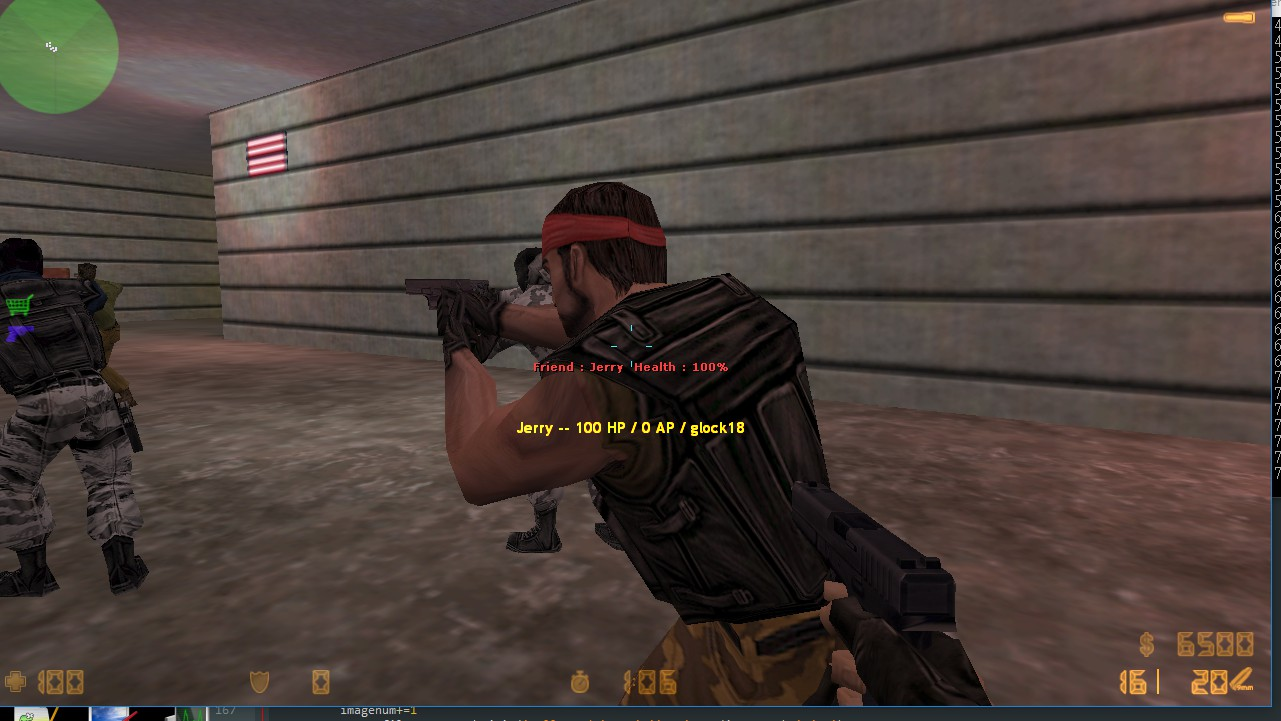person: (401, 180, 883, 708)
